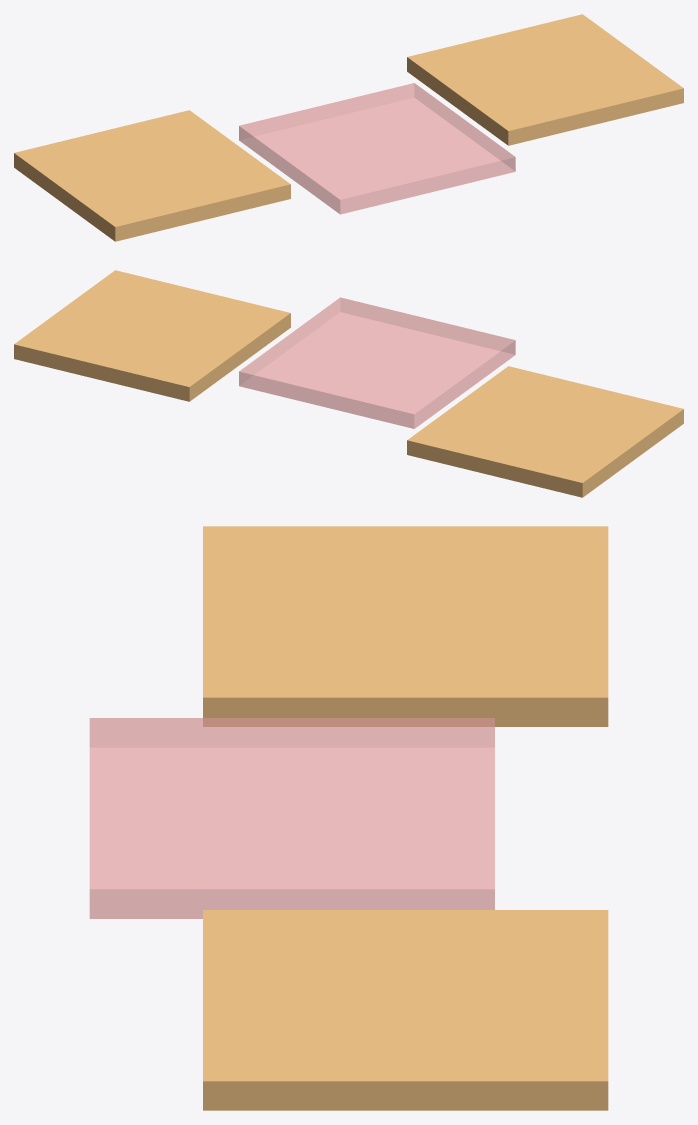
The model's file is castello_step3.glb.
3 views of the same model, one above another, from view 1: azimuth 30°, elevation 25°; view 2: azimuth 150°, elevation 25°; view 3: azimuth 270°, elevation 25° (orthographic). The views are drawn at different scales.
Visible parts, largest first — view 1: quadrato_piccolo, quadrato_piccolo.001, quadrato_grande; view 2: quadrato_piccolo, quadrato_piccolo.001, quadrato_grande; view 3: quadrato_piccolo, quadrato_piccolo.001, quadrato_grande.
Boxes of the visible parts, x1,y1,x2,y2 form: quadrato_piccolo: (14, 110, 290, 241); quadrato_piccolo.001: (407, 14, 683, 145); quadrato_grande: (239, 83, 515, 214); quadrato_piccolo: (407, 366, 683, 497); quadrato_piccolo.001: (14, 270, 290, 401); quadrato_grande: (239, 297, 515, 428); quadrato_piccolo: (203, 526, 608, 726); quadrato_piccolo.001: (203, 910, 608, 1110); quadrato_grande: (89, 718, 494, 918).
Size of the model in its own units: 3.24 by 0.08 by 1.28.
